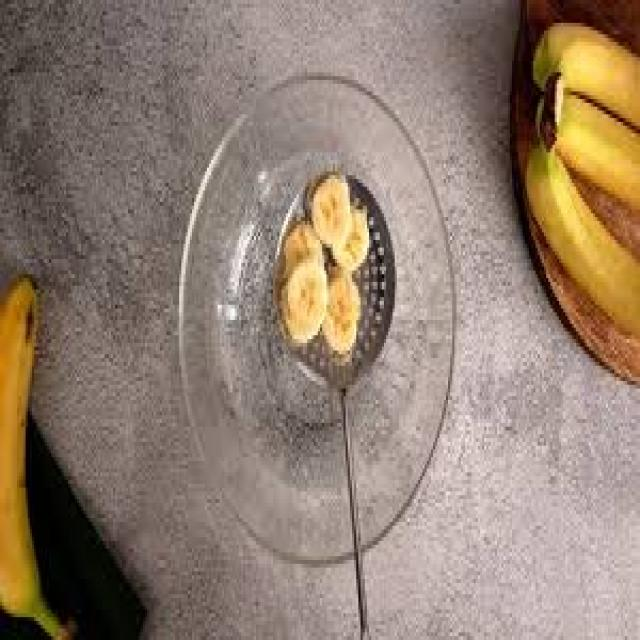banana: (523, 19, 638, 343), (0, 271, 73, 636), (294, 210, 361, 332)
